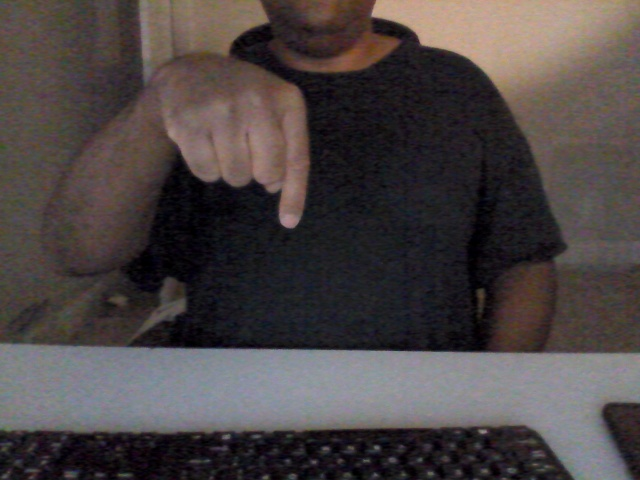down: (143, 48, 311, 240)
